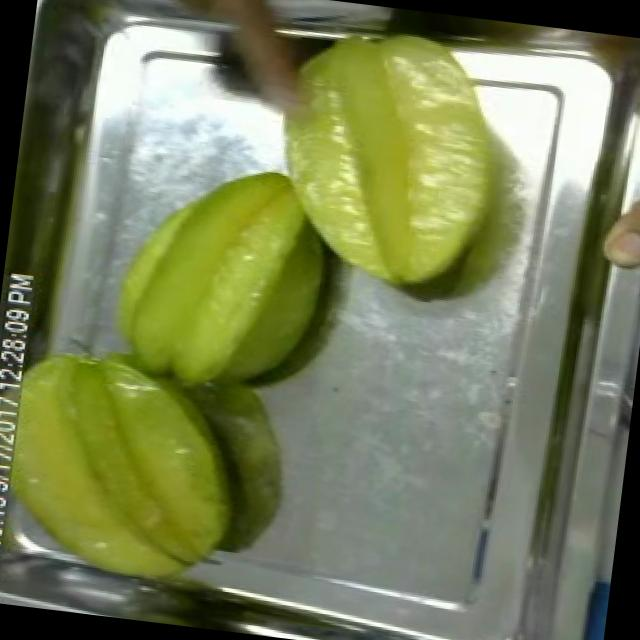fruit: (248, 1, 532, 312), (0, 327, 267, 608), (92, 138, 349, 416), (591, 149, 640, 277)
